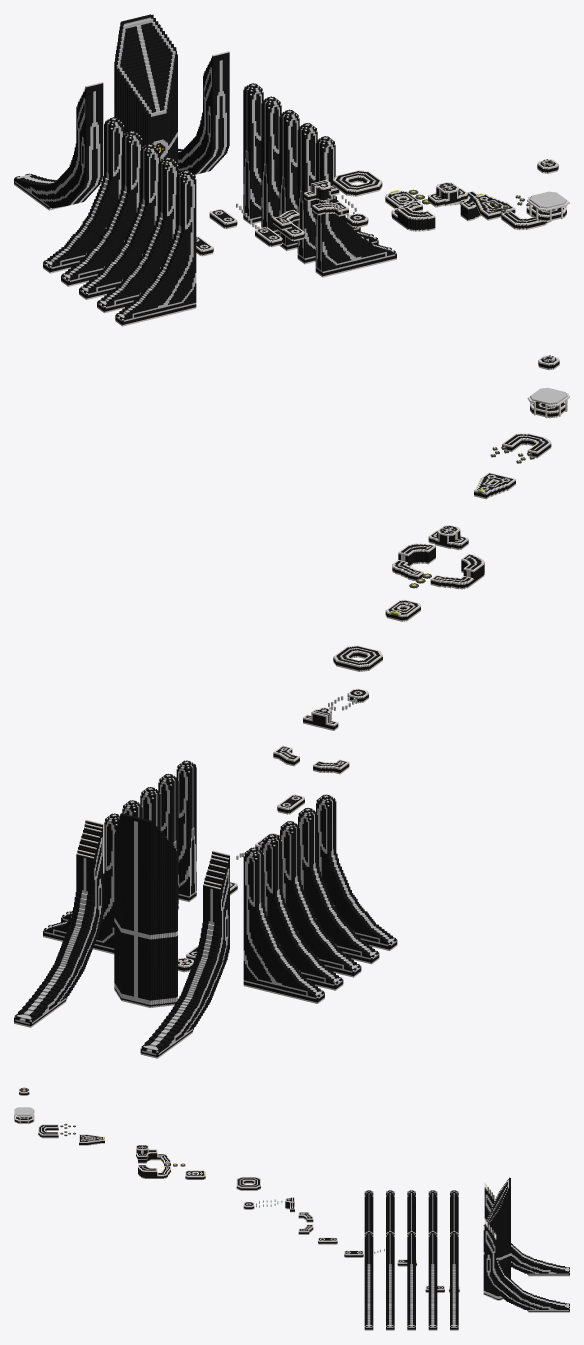
File: minecraft.obj
The picture shows the model from 3 angles, top to bottom: view 1: azimuth 30°, elevation 25°; view 2: azimuth 150°, elevation 25°; view 3: azimuth 270°, elevation 25°; orthographic projection. The views are drawn at different scales.
Bounding box in the file's own units: 193 × 232 × 574.
